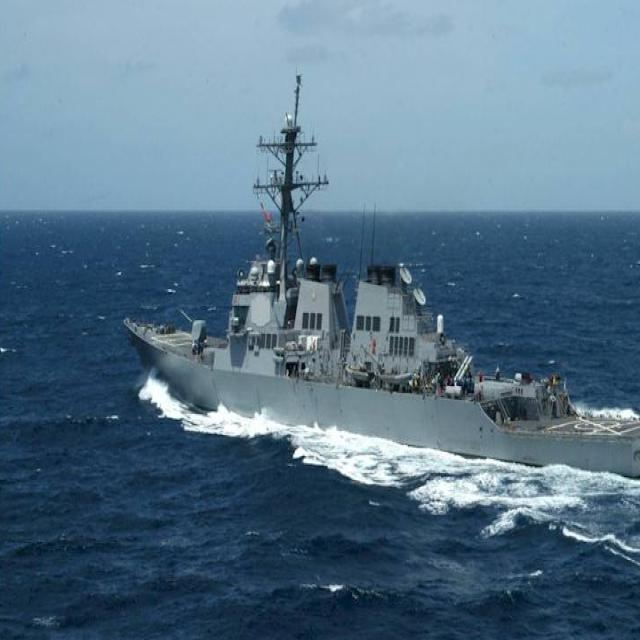navalvessels: (121, 59, 640, 474)
